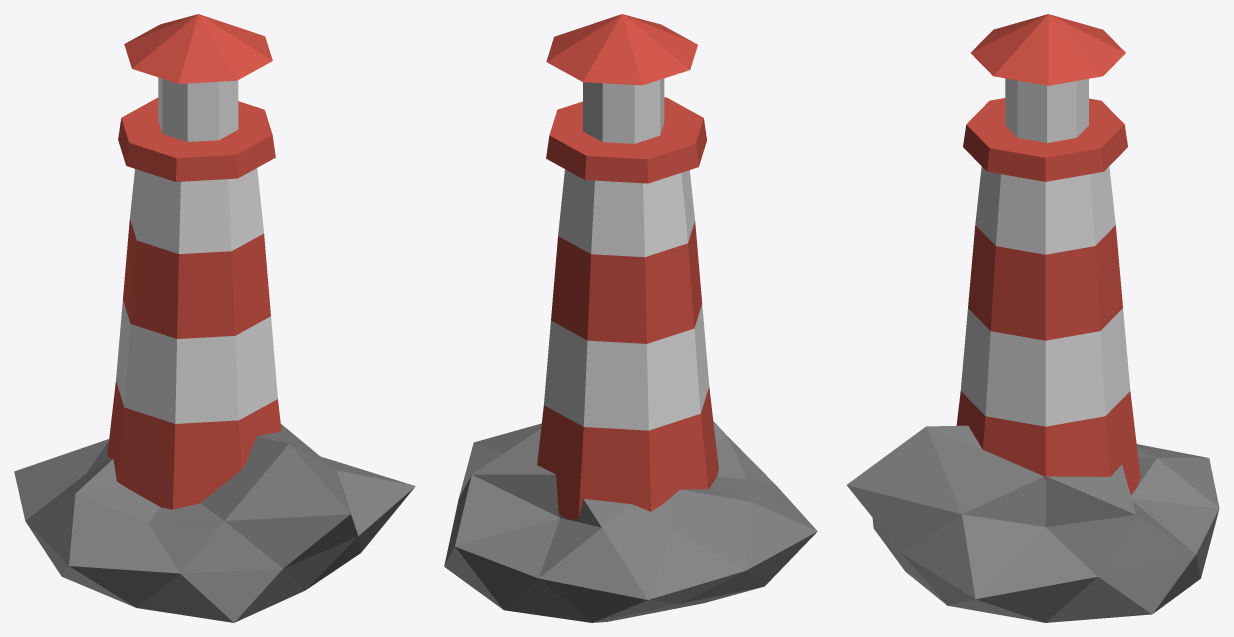
The model's file is LightHouse.fbx.
The picture shows the model from 3 angles, left to right: view 1: azimuth 30°, elevation 25°; view 2: azimuth 150°, elevation 25°; view 3: azimuth 270°, elevation 25°; orthographic projection. The views are drawn at different scales.
Visible parts, largest first — view 1: Cylinder.003, Icosphere, Hat, Cylinder.001; view 2: Cylinder.003, Icosphere, Hat, Cylinder.001; view 3: Cylinder.003, Icosphere, Hat, Cylinder.001.
Boxes of the visible parts, x1,y1,x2,y2 form: Cylinder.003: (107,97,281,509); Icosphere: (14,424,415,622); Hat: (124,14,272,83); Cylinder.001: (158,77,238,141); Cylinder.003: (537,97,718,520); Icosphere: (444,421,817,622); Hat: (546,14,697,85); Cylinder.001: (583,78,664,143); Cylinder.003: (956,98,1140,494); Icosphere: (847,425,1219,622); Hat: (971,14,1125,85); Cylinder.001: (1005,78,1088,142).
Bounding box in the file's own units: 741 × 1188 × 693.
